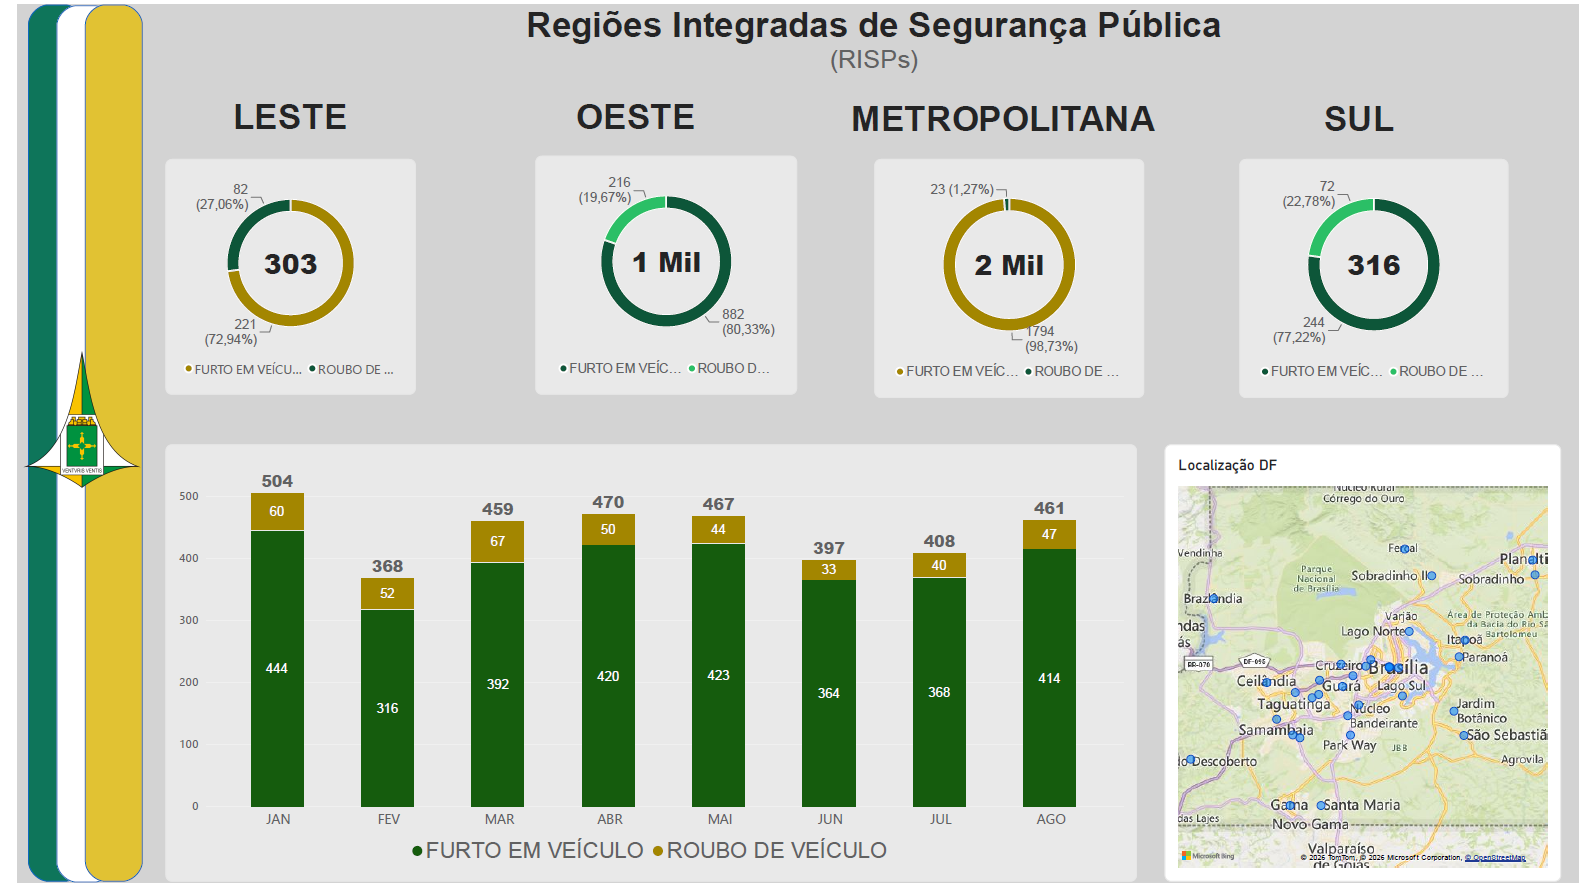

This screenshot's page, from the dashboard's own definition file:
{"tool":"powerbi","page":{"name":"VEÍCULOS","canvas":[1920,1080],"ordinal":2},"visuals":[{"type":"shape","box":[12.5,0,71,1079],"z":0},{"type":"shape","box":[47.6,1,71,1079],"z":1},{"type":"shape","box":[83.5,0,71,1079],"z":2},{"type":"image","box":[4.2,402.8,150.3,215],"z":3},{"type":"textbox","title":"Regiões Integradas de Segurança Pública","box":[562.9,0,980.9,87.7],"z":4},{"type":"textbox","title":"LESTE","box":[229.6,112.7,211.6,63.3],"z":5},{"type":"textbox","title":"OESTE","box":[655.3,112.7,211.6,63.3],"z":6},{"type":"textbox","title":"METROPOLITANA","box":[985,114.8,453.8,61.1],"z":7},{"type":"textbox","title":"SUL","box":[1544.3,114.8,211.6,63.3],"z":8},{"type":"donutChart","fields":{"Category":["LESTE.NATUREZA"],"Y":["Sum(LESTE.QUANTIDADE)"]},"box":[181.6,189.9,308.9,290.1],"z":9},{"type":"donutChart","fields":{"Category":["OESTE.NATUREZA"],"Y":["Sum(OESTE.QUANTIDADE)"]},"box":[636.5,185.7,322.9,294.5],"z":10},{"type":"donutChart","fields":{"Category":["METROPOLITANA.NATUREZA"],"Y":["Sum(METROPOLITANA.Valor)"]},"box":[1053.9,189.9,331.6,294.5],"z":11},{"type":"donutChart","fields":{"Category":["SUL.NATUREZA"],"Y":["Sum(SUL.QUANTIDADE)"]},"box":[1502.6,189.9,331.6,294.5],"z":12},{"type":"columnChart","fields":{"Category":["DF (site).Atributo"],"Series":["DF (site).NATUREZA"],"Y":["Sum(DF (site).Valor)"]},"box":[181.6,540.5,1195.8,538.4],"z":13},{"type":"map","fields":{"Category":["RISPs.Localização DF"]},"box":[1410.8,540.5,488.3,538.4],"z":14}]}

Visuals, with their boxes in screenshot pixels (x1, y1, x2, y2), scaled from the page's 1920x1080 canvas onto the 1587x892 screenshot:
shape: box=[10, 0, 69, 891]
shape: box=[39, 1, 98, 891]
shape: box=[69, 0, 128, 891]
image: box=[3, 333, 128, 510]
"Regiões Integradas de Segurança Pública" textbox: box=[465, 0, 1276, 72]
"LESTE" textbox: box=[190, 93, 365, 145]
"OESTE" textbox: box=[542, 93, 717, 145]
"METROPOLITANA" textbox: box=[814, 95, 1189, 145]
"SUL" textbox: box=[1276, 95, 1451, 147]
donutChart - LESTE.NATUREZA x Sum(LESTE.QUANTIDADE): box=[150, 157, 405, 396]
donutChart - OESTE.NATUREZA x Sum(OESTE.QUANTIDADE): box=[526, 153, 793, 397]
donutChart - METROPOLITANA.NATUREZA x Sum(METROPOLITANA.Valor): box=[871, 157, 1145, 400]
donutChart - SUL.NATUREZA x Sum(SUL.QUANTIDADE): box=[1242, 157, 1516, 400]
columnChart - DF (site).Atributo x DF (site).NATUREZA: box=[150, 446, 1139, 891]
map - RISPs.Localização DF: box=[1166, 446, 1570, 891]
